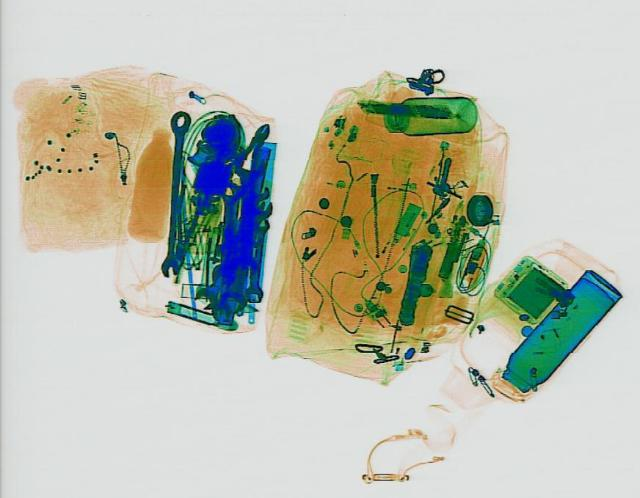Pliers: (208, 118, 286, 201)
Wrench: (156, 109, 190, 275), (215, 220, 257, 314), (185, 260, 245, 307), (242, 215, 268, 301)
